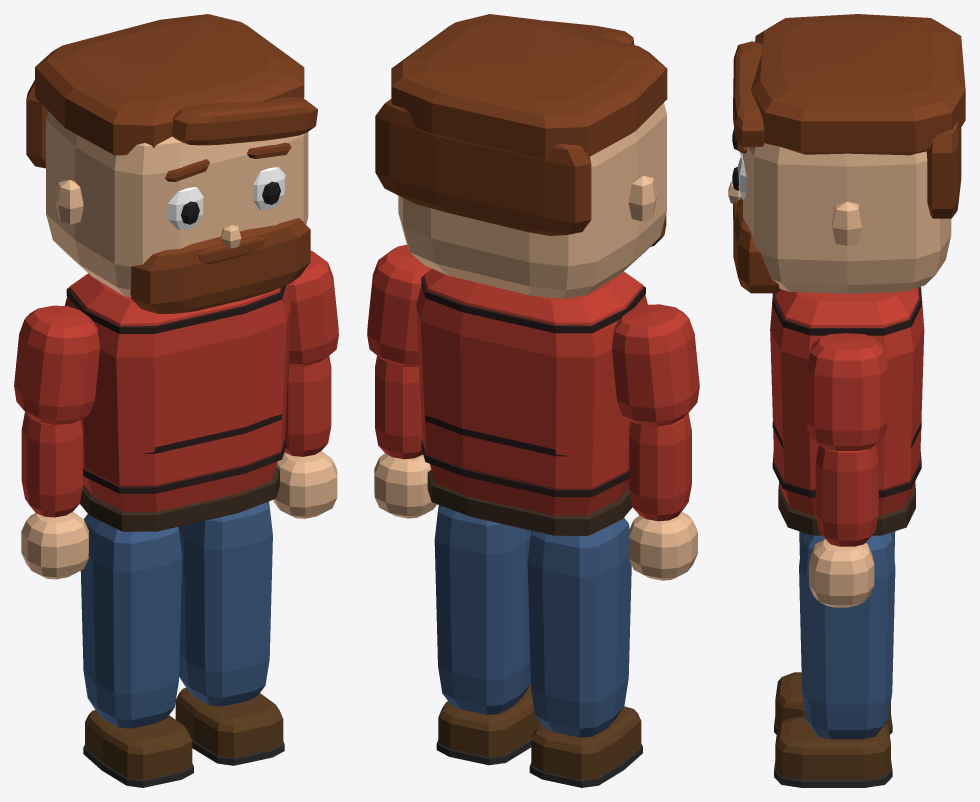
Rendered from hero-k.glb.
3 renders of one model, left to right at view 1: azimuth 30°, elevation 25°; view 2: azimuth 150°, elevation 25°; view 3: azimuth 270°, elevation 25°, orthographic. The views are drawn at different scales.
Parts seen in each view (by area): view 1: head, torso, leg-right, leg-left, arm-right, arm-left; view 2: head, torso, leg-right, leg-left, arm-right, arm-left; view 3: head, torso, leg-left, arm-left, leg-right.
Boxes of the visible parts, x1=… form: head: x1=26, y1=14, x2=317, y2=313; torso: x1=64, y1=273, x2=290, y2=531; leg-right: x1=80, y1=514, x2=193, y2=787; leg-left: x1=175, y1=501, x2=284, y2=765; arm-right: x1=14, y1=305, x2=99, y2=579; arm-left: x1=273, y1=250, x2=338, y2=518; head: x1=375, y1=14, x2=667, y2=298; torso: x1=416, y1=269, x2=647, y2=535; leg-right: x1=527, y1=517, x2=642, y2=787; leg-left: x1=434, y1=505, x2=540, y2=765; arm-right: x1=611, y1=304, x2=699, y2=580; arm-left: x1=367, y1=244, x2=436, y2=518; head: x1=728, y1=14, x2=965, y2=293; torso: x1=770, y1=286, x2=924, y2=535; leg-left: x1=774, y1=532, x2=895, y2=787; arm-left: x1=806, y1=333, x2=888, y2=607; leg-right: x1=774, y1=531, x2=895, y2=734.
Size of the model in its own units: 1.29 by 2.73 by 0.8497.
